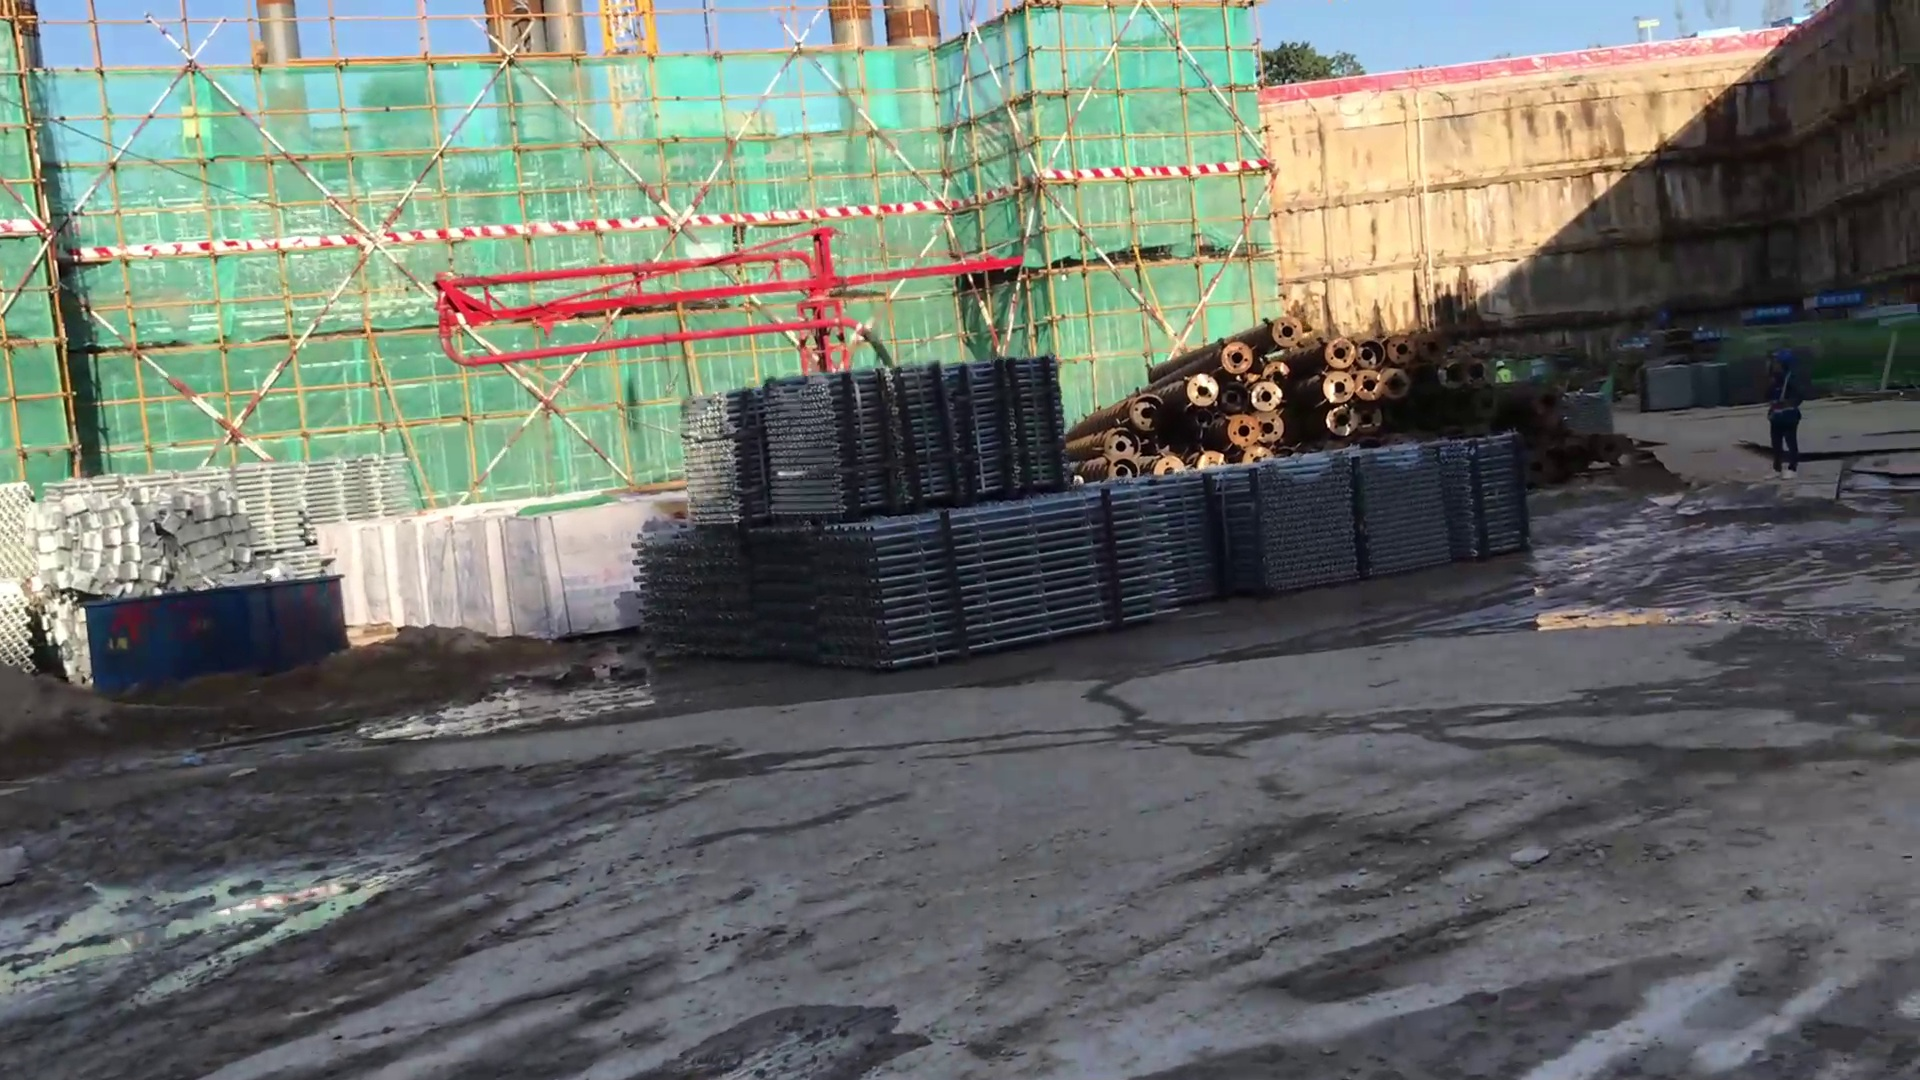hopper: (73, 568, 404, 696)
scaffold: (622, 513, 1192, 649), (1108, 444, 1524, 585), (764, 368, 1069, 516), (225, 448, 427, 527), (680, 389, 781, 529)
